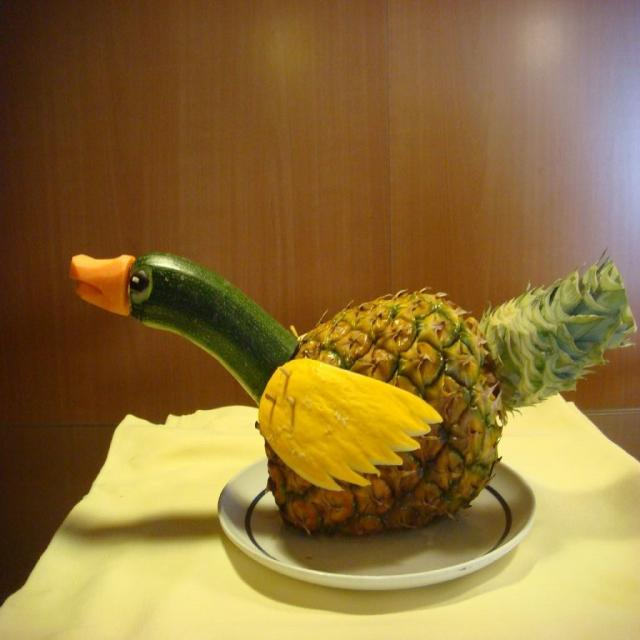Pineapple: (249, 296, 501, 561)
